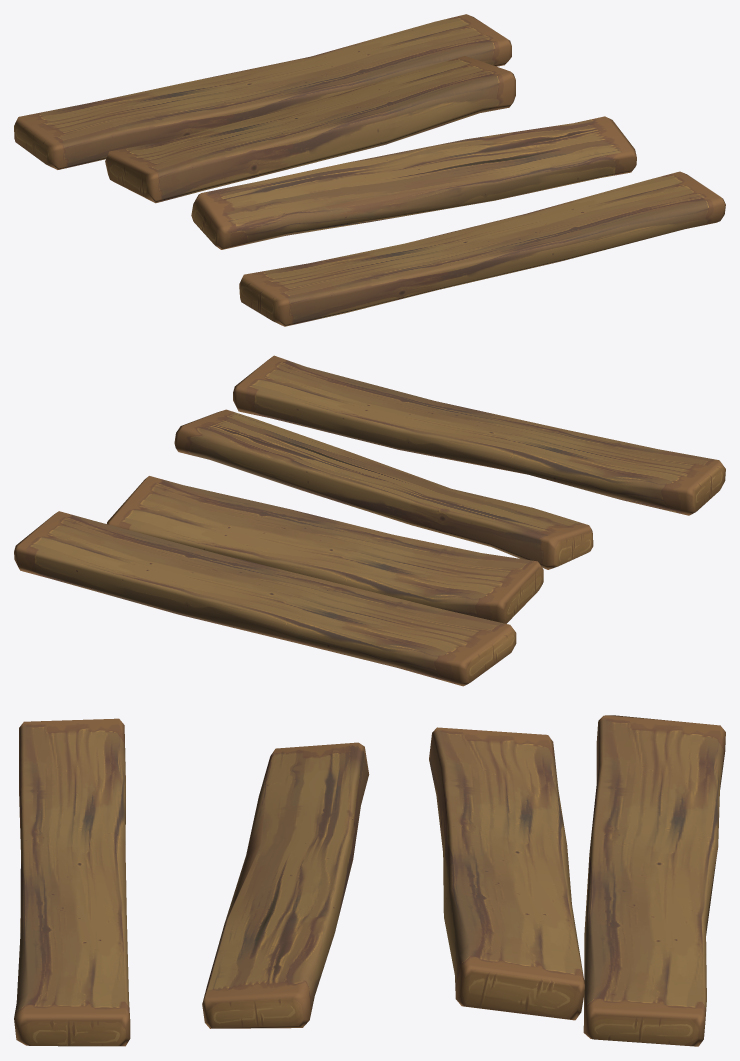
Rendered from SM_MOD_floor_planks_town_02.fbx.
3 views of the same model, one above another, from view 1: azimuth 30°, elevation 25°; view 2: azimuth 150°, elevation 25°; view 3: azimuth 270°, elevation 25° (orthographic). The views are drawn at different scales.
Visible parts, largest first — view 1: SM_MOD_floor_planks_town_02_LOD0; view 2: SM_MOD_floor_planks_town_02_LOD0; view 3: SM_MOD_floor_planks_town_02_LOD0.
Boxes of the visible parts, x1,y1,x2,y2 form: SM_MOD_floor_planks_town_02_LOD0: (14, 14, 725, 326); SM_MOD_floor_planks_town_02_LOD0: (14, 355, 725, 686); SM_MOD_floor_planks_town_02_LOD0: (14, 715, 725, 1046).
Size of what is drawn, in the model's own units: 199 by 18.86 by 200.
